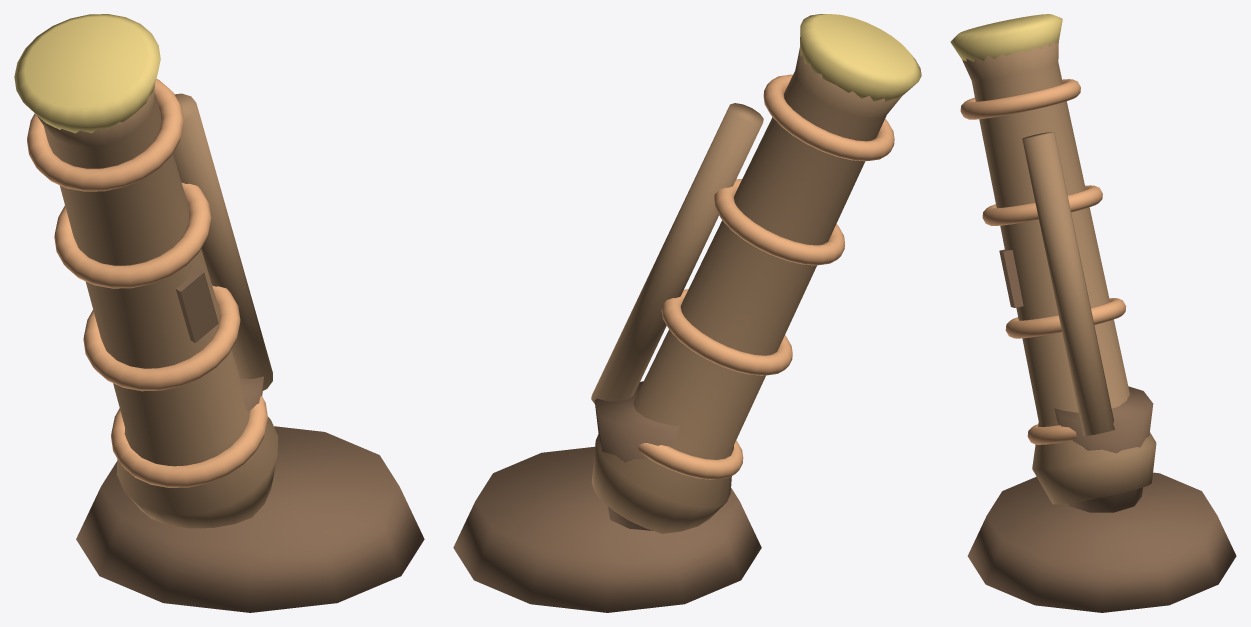
Rendered from REL_FUJARA.glb.
The picture shows the model from 3 angles, left to right: view 1: azimuth 30°, elevation 25°; view 2: azimuth 150°, elevation 25°; view 3: azimuth 270°, elevation 25°; orthographic projection. The views are drawn at different scales.
Parts seen in each view (by area): view 1: MainPipe, StandFoot, BrassCrown, AirPipe, CopperBand0.126, CopperBand0.092, CopperBand0.056, CopperBand0.022, SoundWindow, StandPeg; view 2: MainPipe, StandFoot, AirPipe, BrassCrown, StandPeg, CopperBand0.126, CopperBand0.092, CopperBand0.056, CopperBand0.022; view 3: MainPipe, StandFoot, AirPipe, StandPeg, BrassCrown, CopperBand0.126, CopperBand0.092, CopperBand0.056, SoundWindow, CopperBand0.022.
Boxes of the visible parts, box(x1,y1,x2,y2) form: MainPipe: box(36, 84, 278, 528); StandFoot: box(76, 426, 424, 612); BrassCrown: box(14, 14, 160, 133); AirPipe: box(173, 93, 272, 390); CopperBand0.126: box(27, 79, 183, 191); CopperBand0.092: box(54, 182, 211, 288); CopperBand0.056: box(83, 285, 240, 391); CopperBand0.022: box(111, 395, 267, 487); SoundWindow: box(176, 267, 218, 342); StandPeg: box(240, 376, 263, 411); MainPipe: box(591, 47, 901, 533); StandFoot: box(453, 446, 761, 612); AirPipe: box(591, 103, 763, 403); BrassCrown: box(800, 14, 921, 102); StandPeg: box(594, 381, 679, 530); CopperBand0.126: box(763, 74, 894, 161); CopperBand0.092: box(714, 179, 844, 265); CopperBand0.056: box(661, 289, 792, 375); CopperBand0.022: box(638, 440, 743, 479); MainPipe: box(962, 38, 1156, 504); StandFoot: box(967, 472, 1236, 612); AirPipe: box(1022, 132, 1114, 435); StandPeg: box(1054, 386, 1153, 512); BrassCrown: box(950, 14, 1062, 61); CopperBand0.126: box(960, 79, 1080, 119); CopperBand0.092: box(982, 185, 1102, 225); CopperBand0.056: box(1005, 298, 1126, 338); SoundWindow: box(999, 249, 1023, 307); CopperBand0.022: box(1027, 424, 1076, 444).
Bounding box in the file's own units: 0.1214 × 0.1597 × 0.0894.
